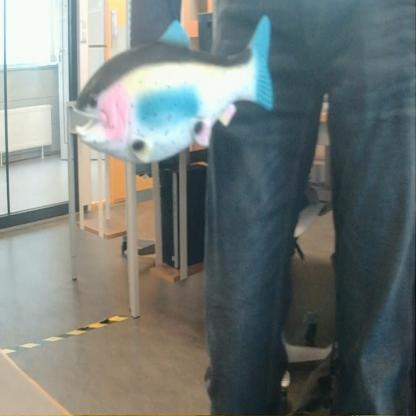rubberfish: (71, 10, 279, 169)
